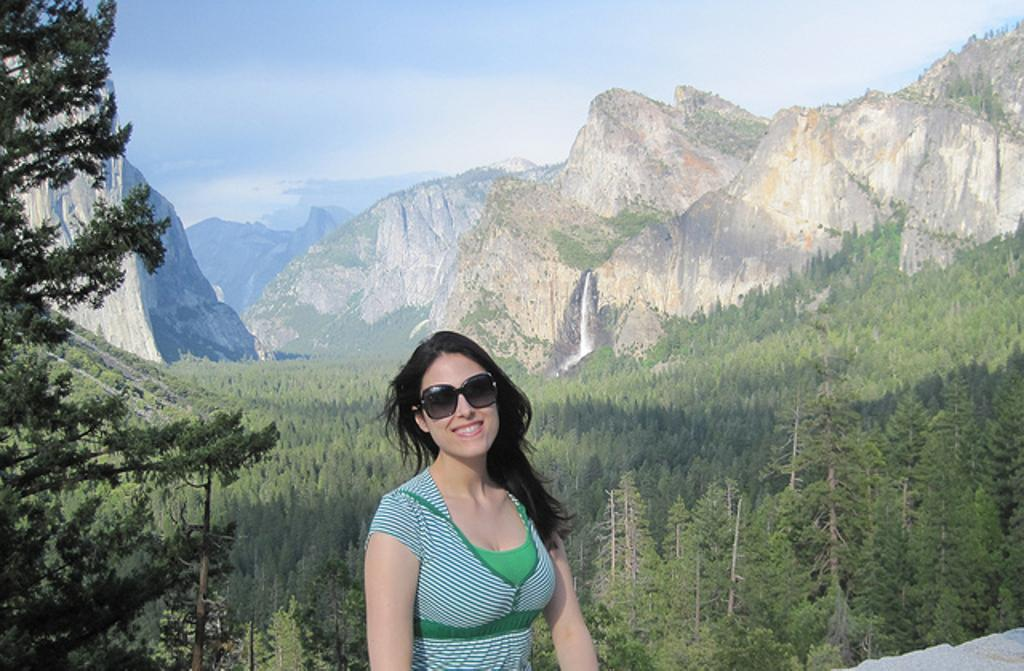face: (405, 339, 507, 471)
